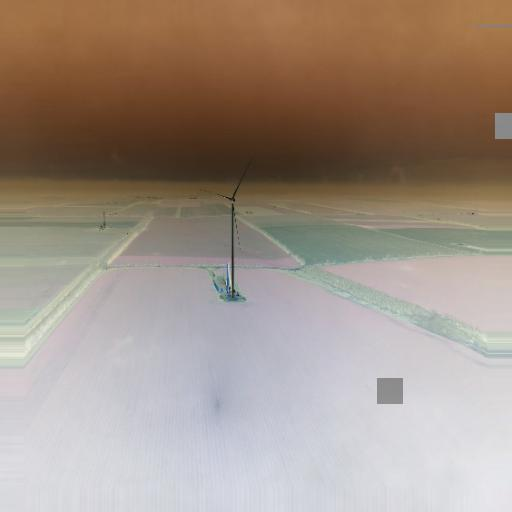wind turbine: (199, 156, 256, 298)
